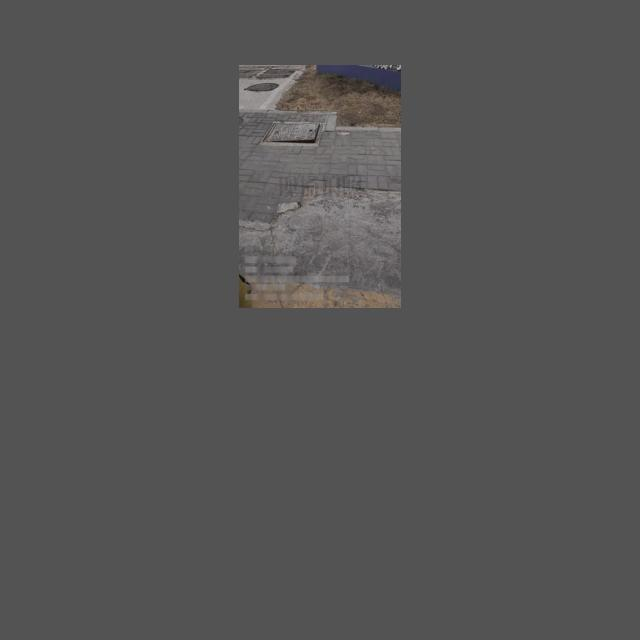good: (243, 82, 279, 91)
uncovered: (262, 122, 322, 146)
